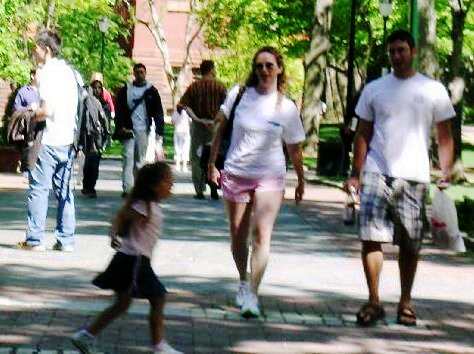person: (347, 29, 455, 338), (215, 44, 314, 322), (73, 160, 202, 352)
